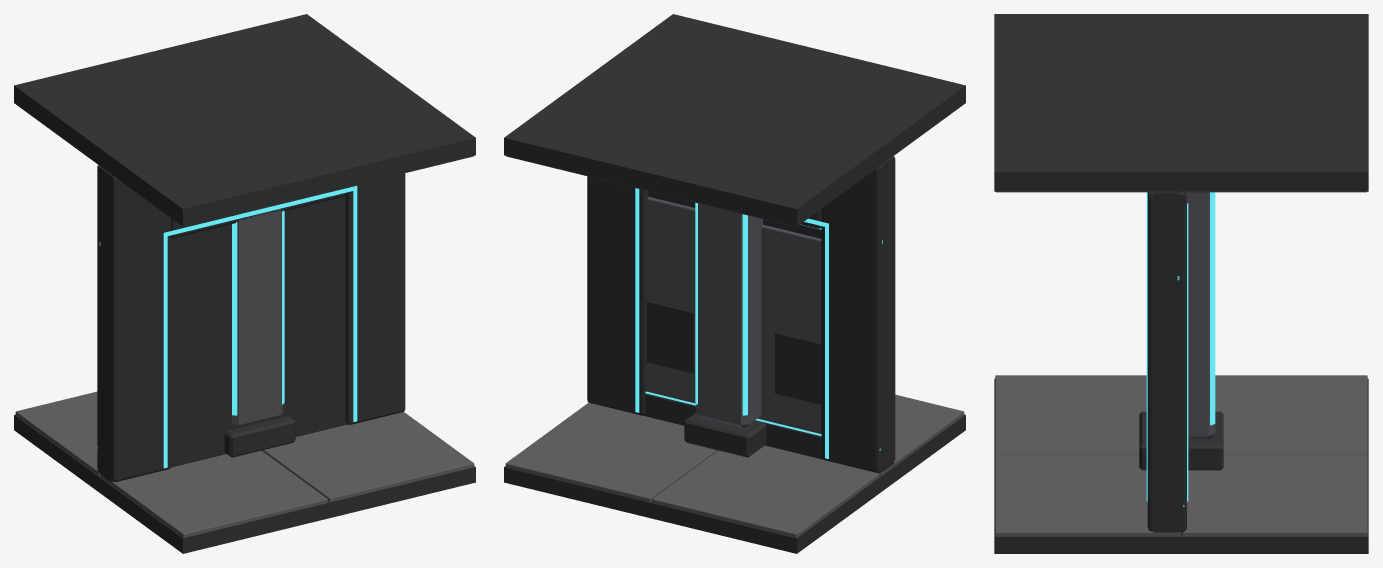
The model's file is kit_env.glb.
The picture shows the model from 3 angles, left to right: view 1: azimuth 30°, elevation 25°; view 2: azimuth 150°, elevation 25°; view 3: azimuth 270°, elevation 25°; orthographic projection. The views are drawn at different scales.
Parts seen in each view (by area): view 1: Ceiling, Doorframe, Floor, Wall, Pillar; view 2: Ceiling, Floor, Doorframe, Wall, Pillar; view 3: Ceiling, Floor, Doorframe, Pillar, Wall.
Part boxes in pixels (x1=…): Ceiling: x1=14, y1=14, x2=475, y2=226; Doorframe: x1=97, y1=171, x2=405, y2=481; Floor: x1=14, y1=391, x2=475, y2=553; Wall: x1=97, y1=165, x2=346, y2=482; Pillar: x1=224, y1=204, x2=295, y2=457; Ceiling: x1=504, y1=14, x2=965, y2=226; Floor: x1=504, y1=394, x2=965, y2=553; Doorframe: x1=587, y1=156, x2=895, y2=472; Wall: x1=587, y1=157, x2=893, y2=473; Pillar: x1=684, y1=202, x2=767, y2=457; Ceiling: x1=994, y1=14, x2=1368, y2=192; Floor: x1=994, y1=375, x2=1368, y2=553; Doorframe: x1=1146, y1=191, x2=1188, y2=531; Pillar: x1=1139, y1=192, x2=1223, y2=470; Wall: x1=1153, y1=192, x2=1185, y2=532.
Bounding box in the file's own units: 4 × 4.5 × 4.
